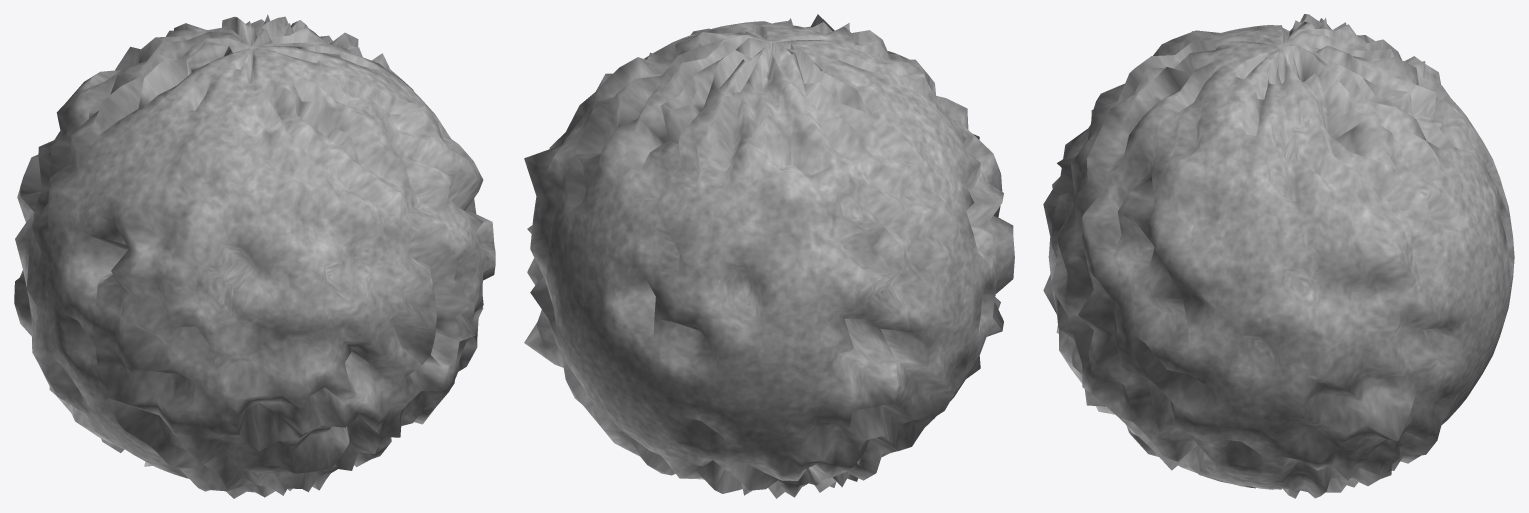
Rendered from ceres.fbx.
The picture shows the model from 3 angles, left to right: view 1: azimuth 30°, elevation 25°; view 2: azimuth 150°, elevation 25°; view 3: azimuth 270°, elevation 25°; orthographic projection.
Parts seen in each view (by area): view 1: Sphere; view 2: Sphere; view 3: Sphere.
Part boxes in pixels (box(x1,y1,x2,y2)): Sphere: box(14, 14, 495, 498); Sphere: box(524, 14, 1014, 498); Sphere: box(1043, 14, 1514, 498).
Bounding box in the file's own units: 10431 × 10710 × 10365.
